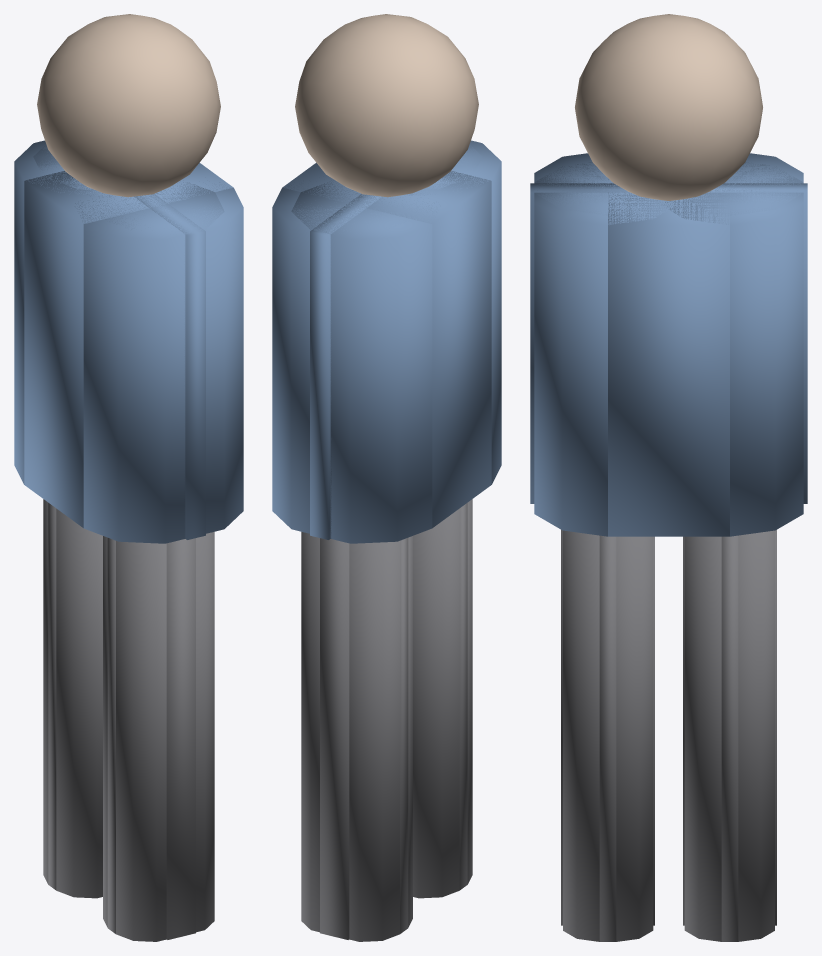
The model's file is person_blue.glb.
3 renders of one model, left to right at view 1: azimuth 30°, elevation 25°; view 2: azimuth 150°, elevation 25°; view 3: azimuth 270°, elevation 25°, orthographic. The views are drawn at different scales.
Parts seen in each view (by area): view 1: person_blue; view 2: person_blue; view 3: person_blue.
Boxes of the visible parts, box(x1,y1,x2,y2) form: person_blue: box(14, 14, 243, 941); person_blue: box(272, 14, 501, 941); person_blue: box(530, 14, 807, 941).
Size of the model in its own units: 0.34 by 1.78 by 0.5.
